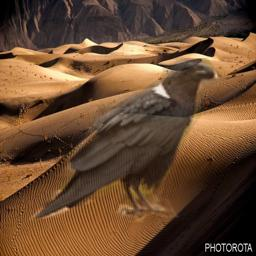Crow: (29, 58, 222, 228)
